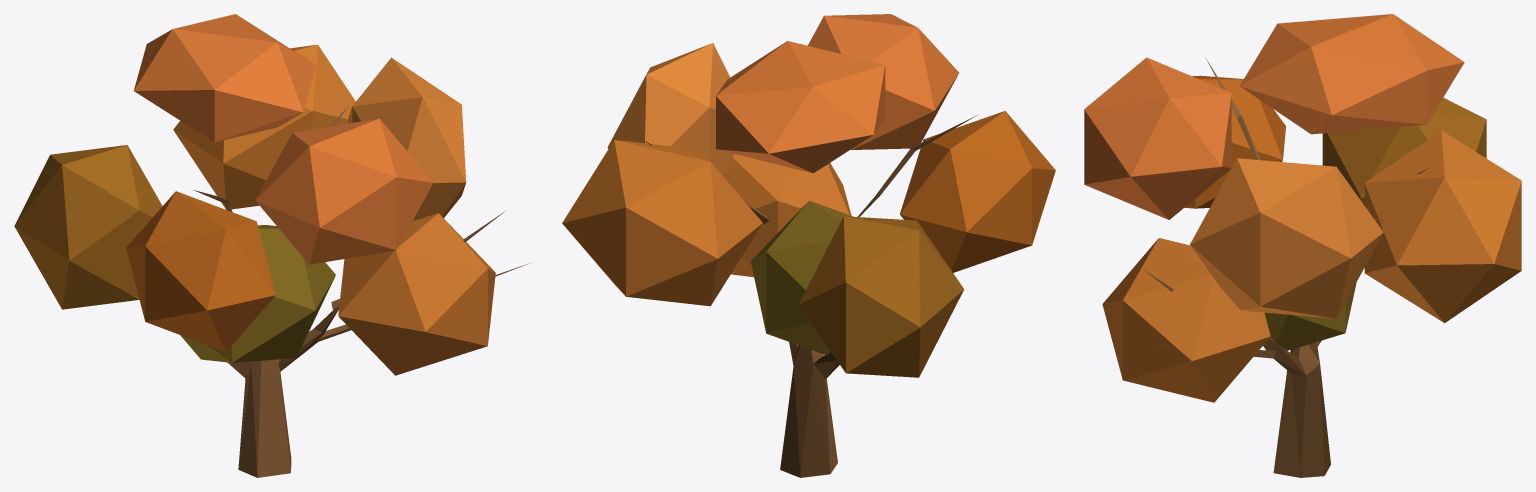
File: elm_3_autumn_far.glb
The picture shows the model from 3 angles, left to right: view 1: azimuth 30°, elevation 25°; view 2: azimuth 150°, elevation 25°; view 3: azimuth 270°, elevation 25°; orthographic projection. The views are drawn at different scales.
Parts seen in each view (by area): view 1: elm_3_autumn_far; view 2: elm_3_autumn_far; view 3: elm_3_autumn_far.
Boxes of the visible parts, bbox=[...] form: elm_3_autumn_far: bbox=[14, 14, 530, 477]; elm_3_autumn_far: bbox=[562, 14, 1055, 477]; elm_3_autumn_far: bbox=[1084, 14, 1521, 477].
Size of the model in its own units: 5.99 by 6.42 by 5.93.
